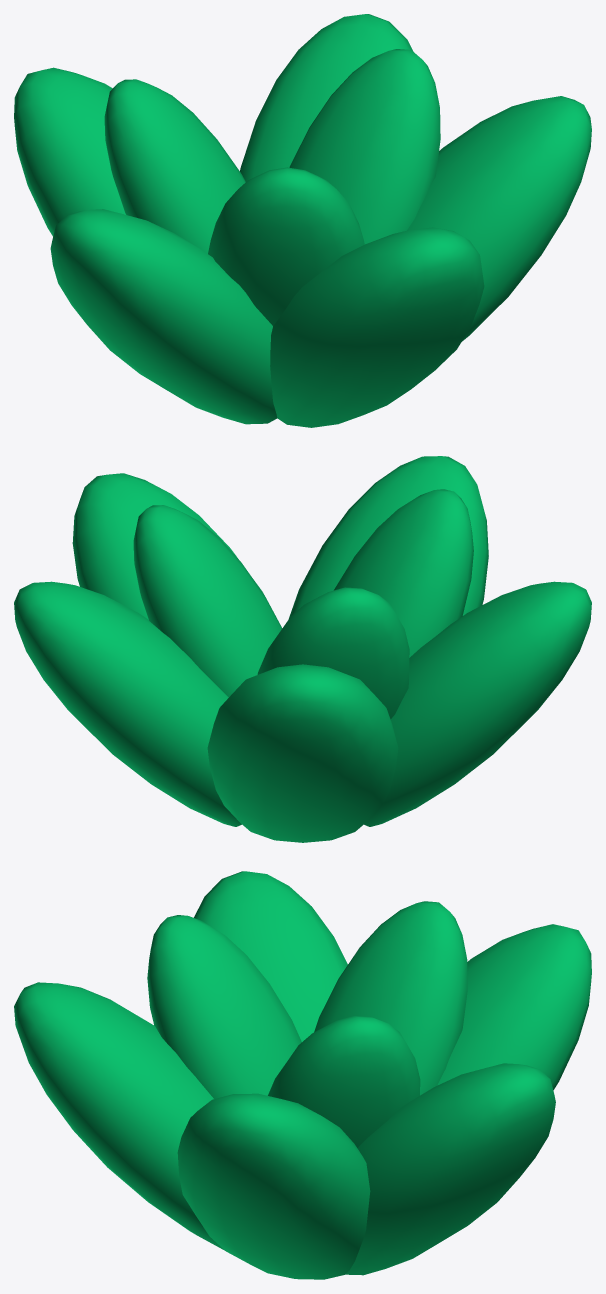
Rendered from Town_18_Grass_1.glb.
The picture shows the model from 3 angles, top to bottom: view 1: azimuth 30°, elevation 25°; view 2: azimuth 150°, elevation 25°; view 3: azimuth 270°, elevation 25°; orthographic projection. The views are drawn at different scales.
Visible parts, largest first — view 1: Town_18_Grass_1; view 2: Town_18_Grass_1; view 3: Town_18_Grass_1.
Part boxes in pixels (<box>): Town_18_Grass_1: <box>14,14,591,427</box>; Town_18_Grass_1: <box>14,456,591,842</box>; Town_18_Grass_1: <box>14,871,591,1279</box>.
Size of the model in its own units: 0.447 by 0.2381 by 0.4354.
1 material, 1 textured.
